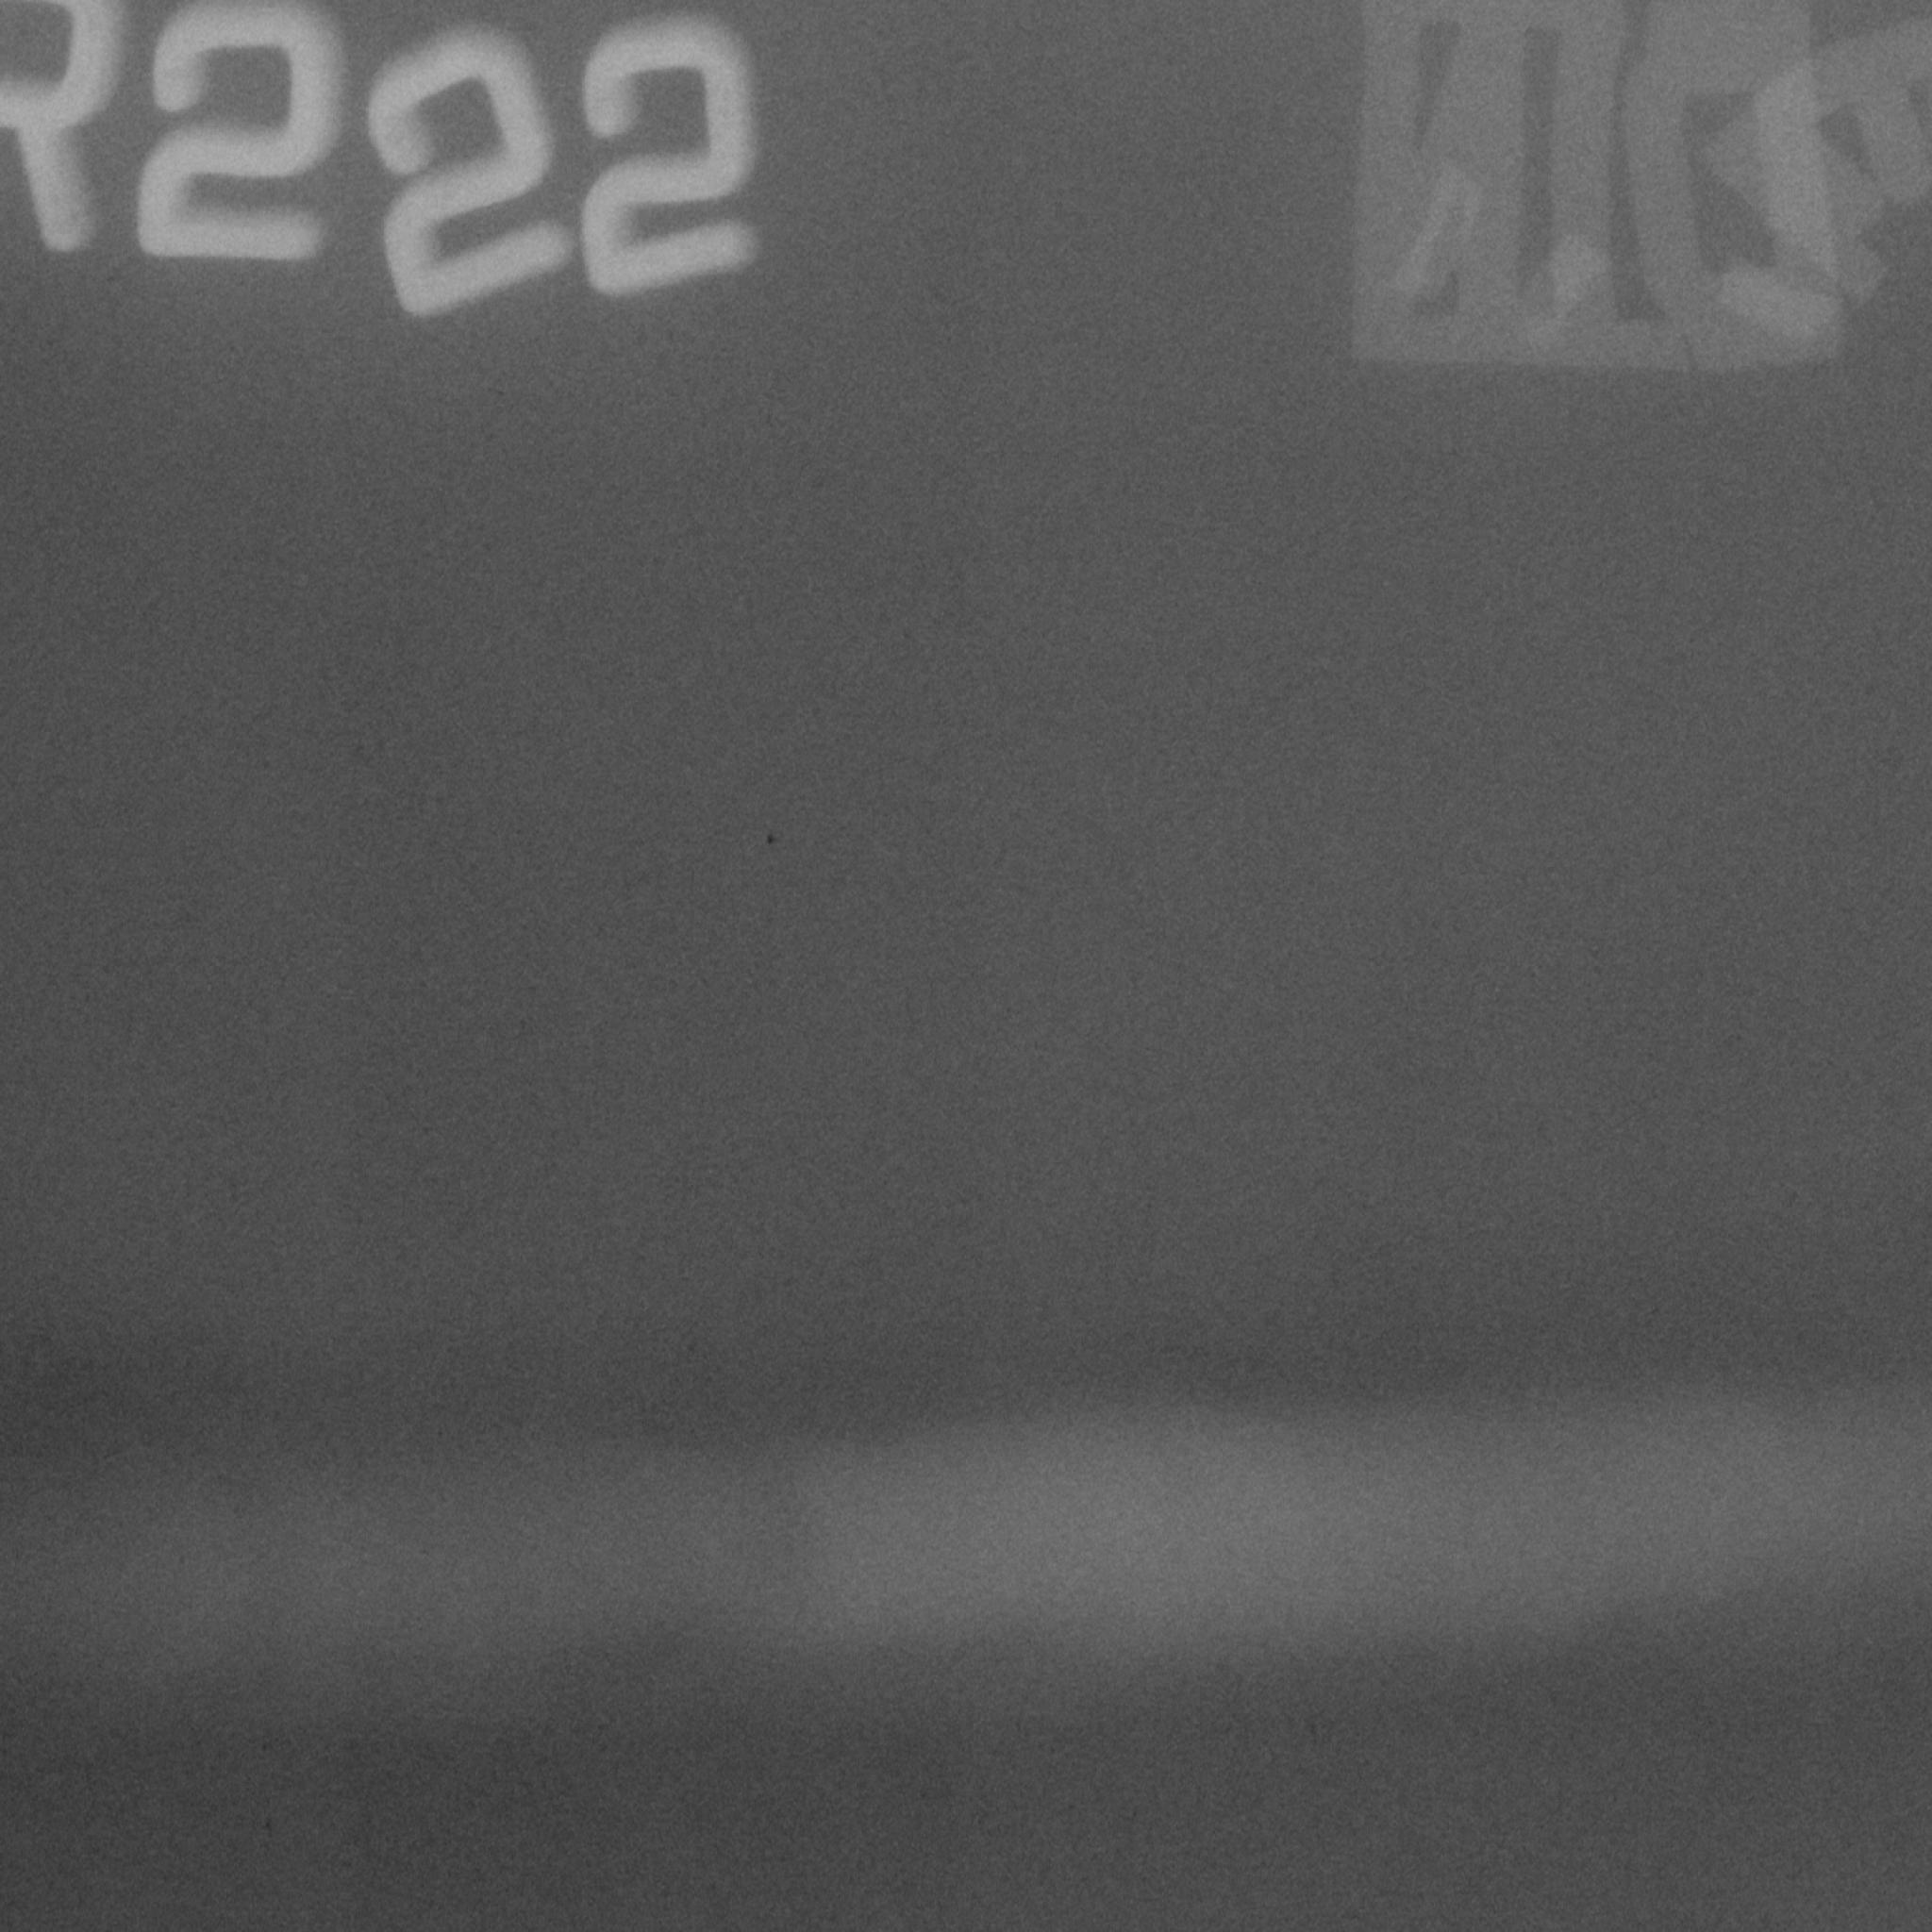PO: (743, 810, 807, 867), (253, 1812, 287, 1844), (253, 1734, 276, 1762)
